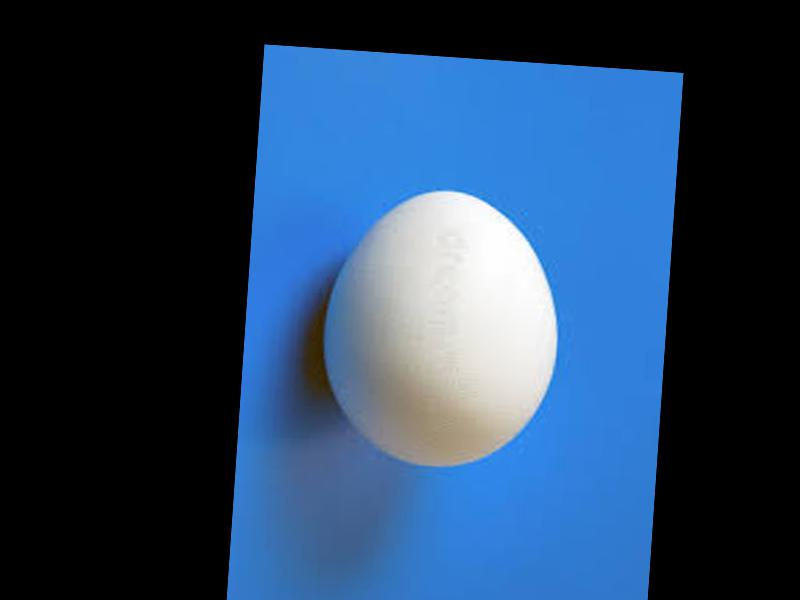Eggs: (314, 180, 566, 476)
